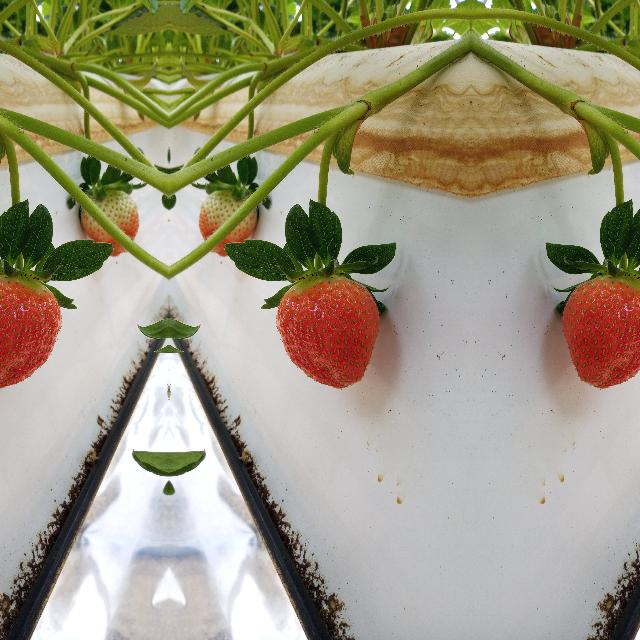Health_100: (274, 274, 380, 391), (561, 273, 640, 390), (0, 273, 61, 390)
Health_50: (198, 179, 256, 263), (80, 179, 138, 263)
